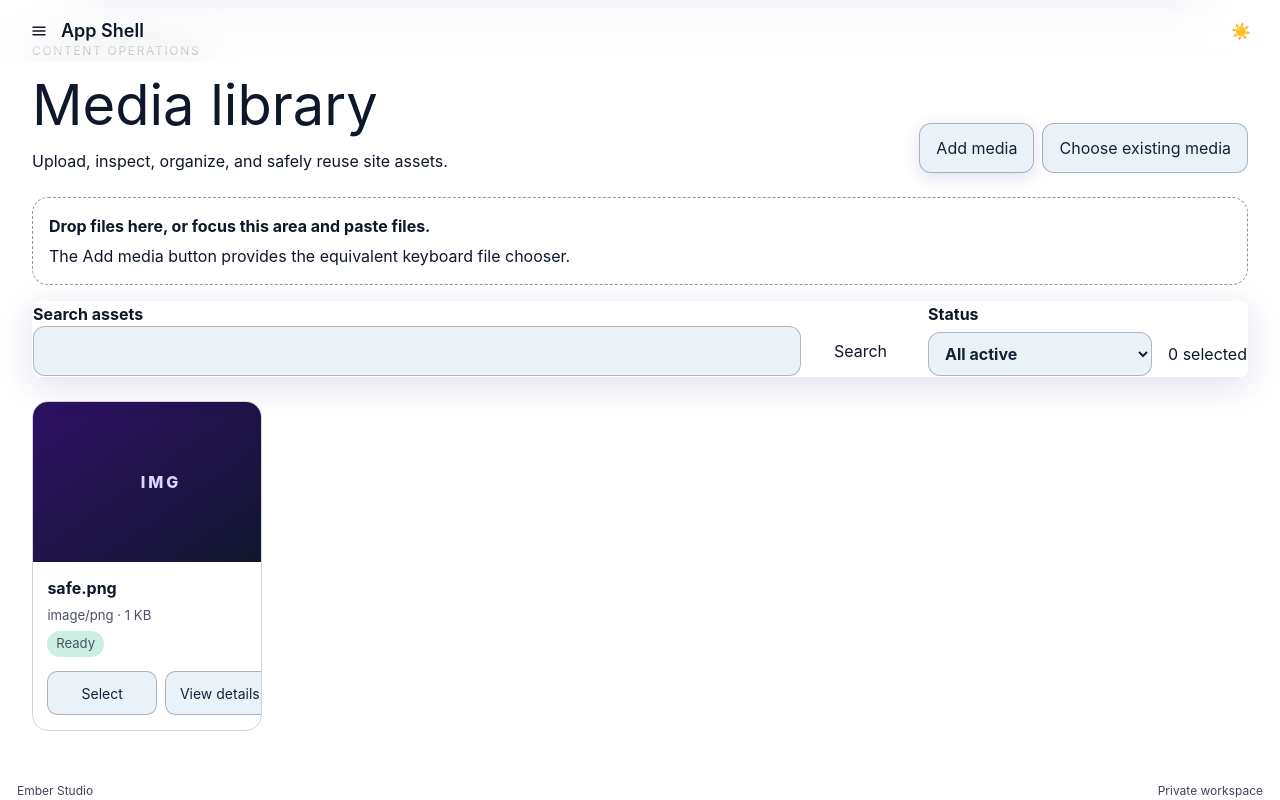
Test: opens an accessible detail and usage dialog with consequence preview
(page scrolled)
Click the button "View details": (220, 693) [165,671,275,715]
(page scrolled)
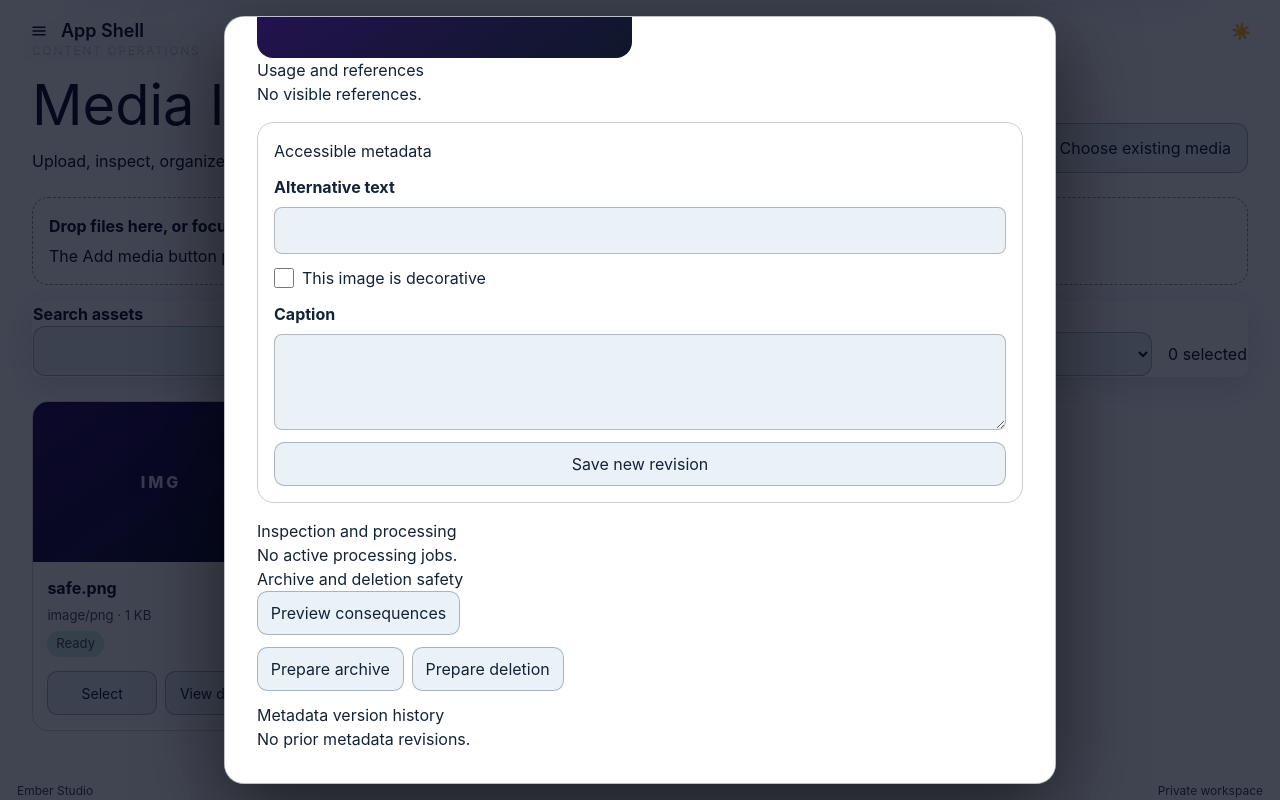
Result: the dialog "safe.png" is shown
Result: the heading "Usage and references" is shown at [257,60,424,80]
Result: the button "Preview consequences" is enabled
Click the button "Preview consequences": (358, 613) [257,591,460,635]
(page scrolled)
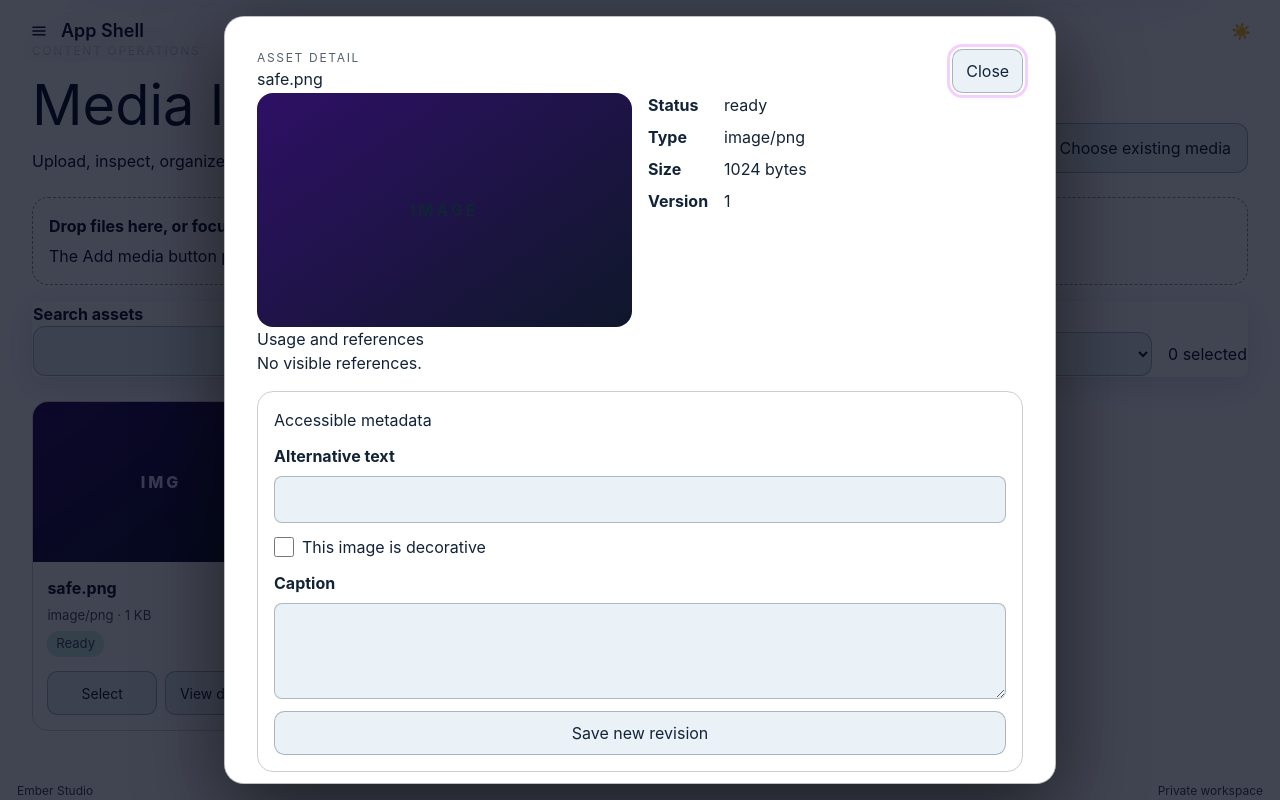
Click the button "Close": (988, 71) [952,49,1023,93]
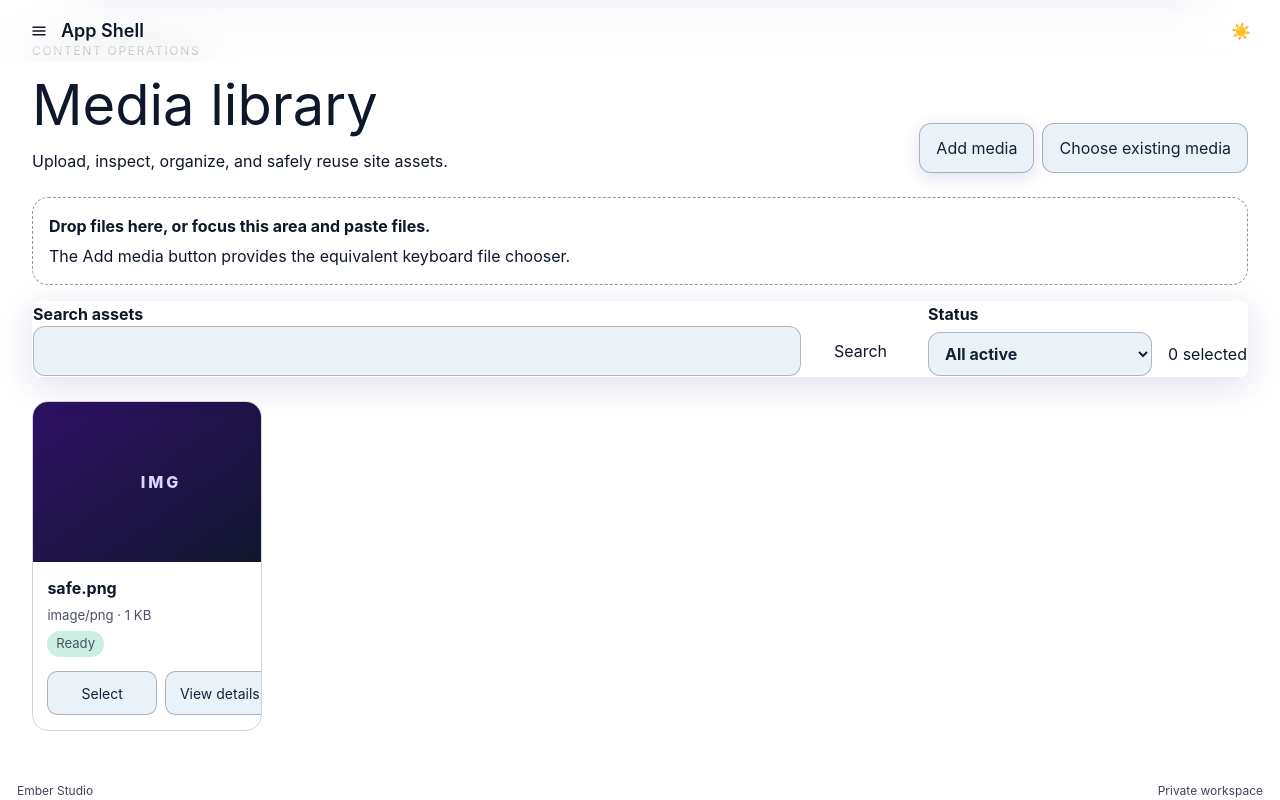
Result: the dialog is gone
